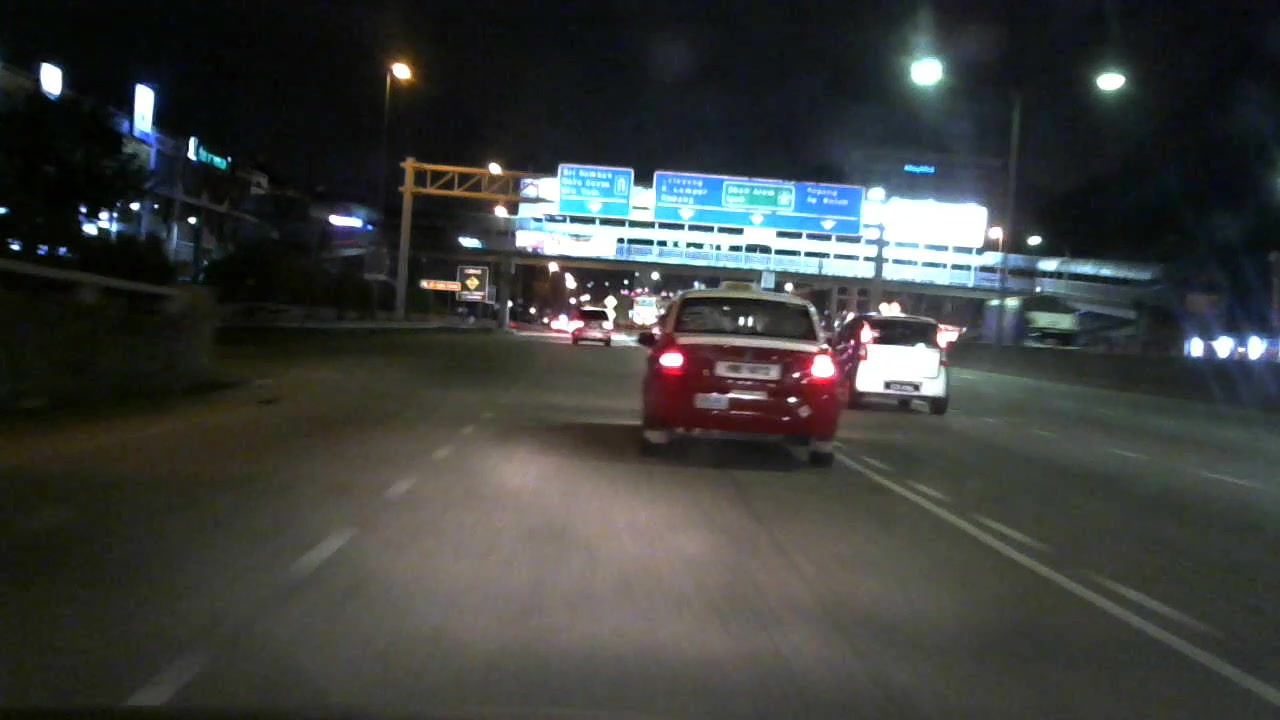Car: (614, 277, 863, 470), (831, 309, 961, 419), (566, 302, 616, 353)
